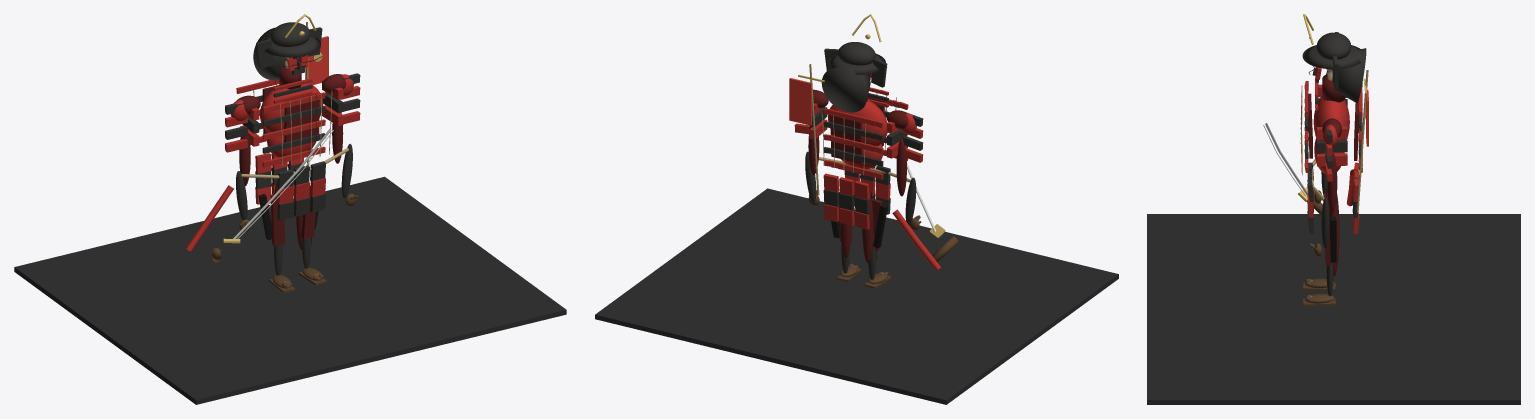
File: samurai_character.glb
3 renders of one model, left to right at view 1: azimuth 30°, elevation 25°; view 2: azimuth 150°, elevation 25°; view 3: azimuth 270°, elevation 25°, orthographic. The views are drawn at different scales.
Parts seen in each view (by area): view 1: matte charcoal inspection plinth, front under-kimono chest panel, upper do cuirass fitted shell, segmented kabuto helmet bowl, wide kabuto brim, cloth sashimono banner panel, layered rear shikoro neck guard, lacquered saya scabbard at left hip, left hanging hakama outer cloth; view 2: matte charcoal inspection plinth, layered rear shikoro neck guard, cloth sashimono banner panel, upper do cuirass fitted shell, rear under-kimono back panel, segmented kabuto helmet bowl, lacquered saya scabbard at left hip, left armored upper arm, wide kabuto brim, left hakama trouser leg; view 3: matte charcoal inspection plinth, layered rear shikoro neck guard, upper do cuirass fitted shell, segmented kabuto helmet bowl, wide kabuto brim, right armored upper arm, neck guard collar, bamboo sashimono back pole, right kote forearm guard.
Part boxes in pixels (left/top/right/bottom): matte charcoal inspection plinth: left=14, top=176, right=566, bottom=404; front under-kimono chest panel: left=284, top=93, right=319, bottom=148; upper do cuirass fitted shell: left=259, top=83, right=323, bottom=132; segmented kabuto helmet bowl: left=270, top=22, right=310, bottom=46; wide kabuto brim: left=261, top=35, right=320, bottom=57; cloth sashimono banner panel: left=305, top=36, right=328, bottom=84; layered rear shikoro neck guard: left=253, top=27, right=299, bottom=80; lacquered saya scabbard at left hip: left=186, top=185, right=233, bottom=251; left hanging hakama outer cloth: left=270, top=194, right=285, bottom=246; matte charcoal inspection plinth: left=595, top=188, right=1118, bottom=404; layered rear shikoro neck guard: left=821, top=67, right=870, bottom=112; cloth sashimono banner panel: left=789, top=78, right=811, bottom=125; upper do cuirass fitted shell: left=828, top=100, right=887, bottom=146; rear under-kimono back panel: left=830, top=115, right=862, bottom=163; segmented kabuto helmet bowl: left=838, top=42, right=875, bottom=65; lacquered saya scabbard at left hip: left=892, top=209, right=940, bottom=270; left armored upper arm: left=896, top=139, right=906, bottom=196; wide kabuto brim: left=828, top=53, right=885, bottom=74; left hakama trouser leg: left=862, top=193, right=873, bottom=263; matte charcoal inspection plinth: left=1147, top=214, right=1520, bottom=404; layered rear shikoro neck guard: left=1333, top=48, right=1366, bottom=103; upper do cuirass fitted shell: left=1313, top=96, right=1349, bottom=140; segmented kabuto helmet bowl: left=1316, top=32, right=1351, bottom=59; wide kabuto brim: left=1302, top=45, right=1360, bottom=69; right armored upper arm: left=1327, top=152, right=1337, bottom=212; neck guard collar: left=1322, top=74, right=1345, bottom=102; bamboo sashimono back pole: left=1356, top=70, right=1368, bottom=212; right kote forearm guard: left=1321, top=197, right=1329, bottom=248.
Bounding box in the file's own units: 4 × 2.99 × 3.4.
